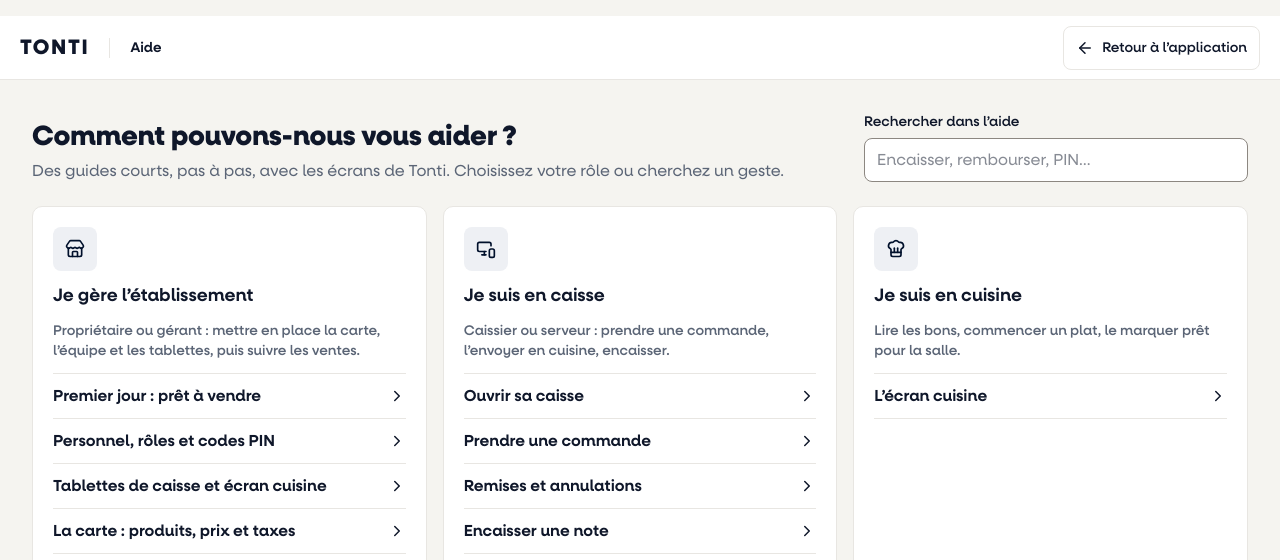
Aide › cherche un geste et dit quand rien ne correspond
(page scrolled)
Step 1. Type "espèces" into the search field labelled "Rechercher dans l’aide" → coordinates (1056, 160), box top-left (864, 138), bottom-right (1248, 182)
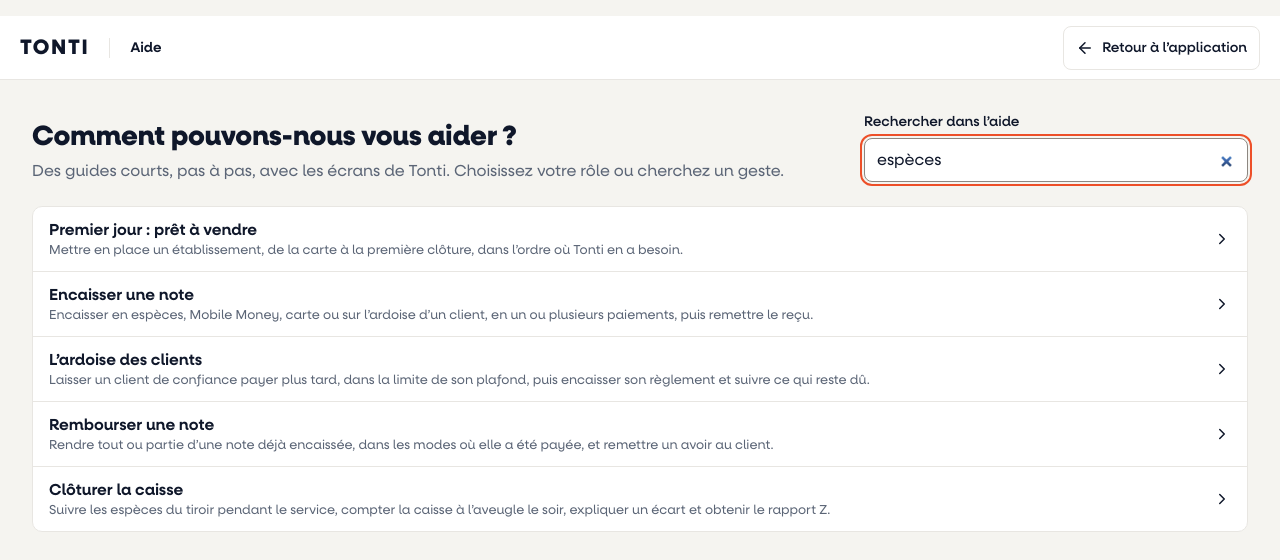
Now the link "Encaisser une note" is shown, box top-left (33, 272), bottom-right (1247, 336)
Now the link "écran cuisine" is gone
Step 2. Replace the text in the search field labelled "Rechercher dans l’aide" with "xyz" → coordinates (1056, 160), box top-left (864, 138), bottom-right (1248, 182)
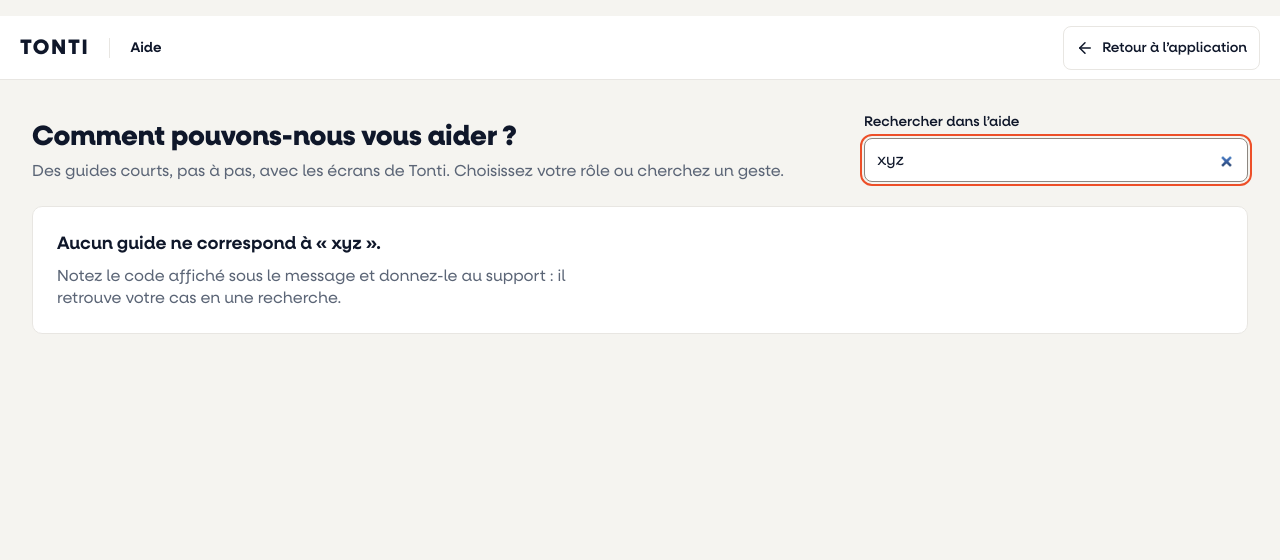
Now the heading "Aucun guide ne correspond à « xyz »." is shown, box top-left (57, 231), bottom-right (381, 257)
